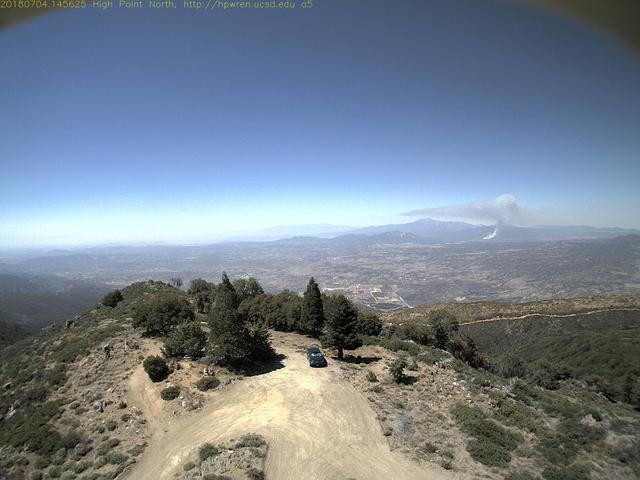smoke: (399, 191, 545, 242)
